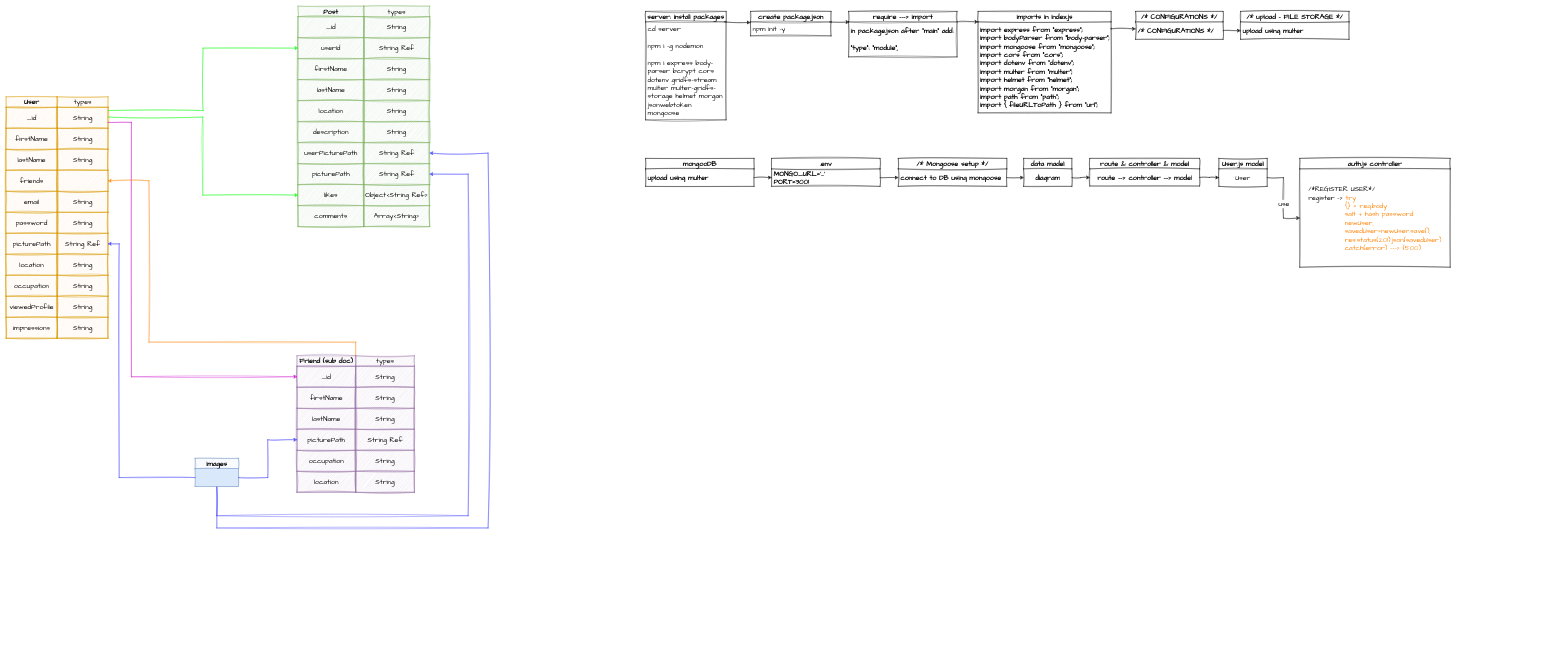
This 1542x666 diagram has some shape labels left out. Each missing label, with the centre of its shape:
Array<Object>: pixel 82 180
path: pixel 217 477
